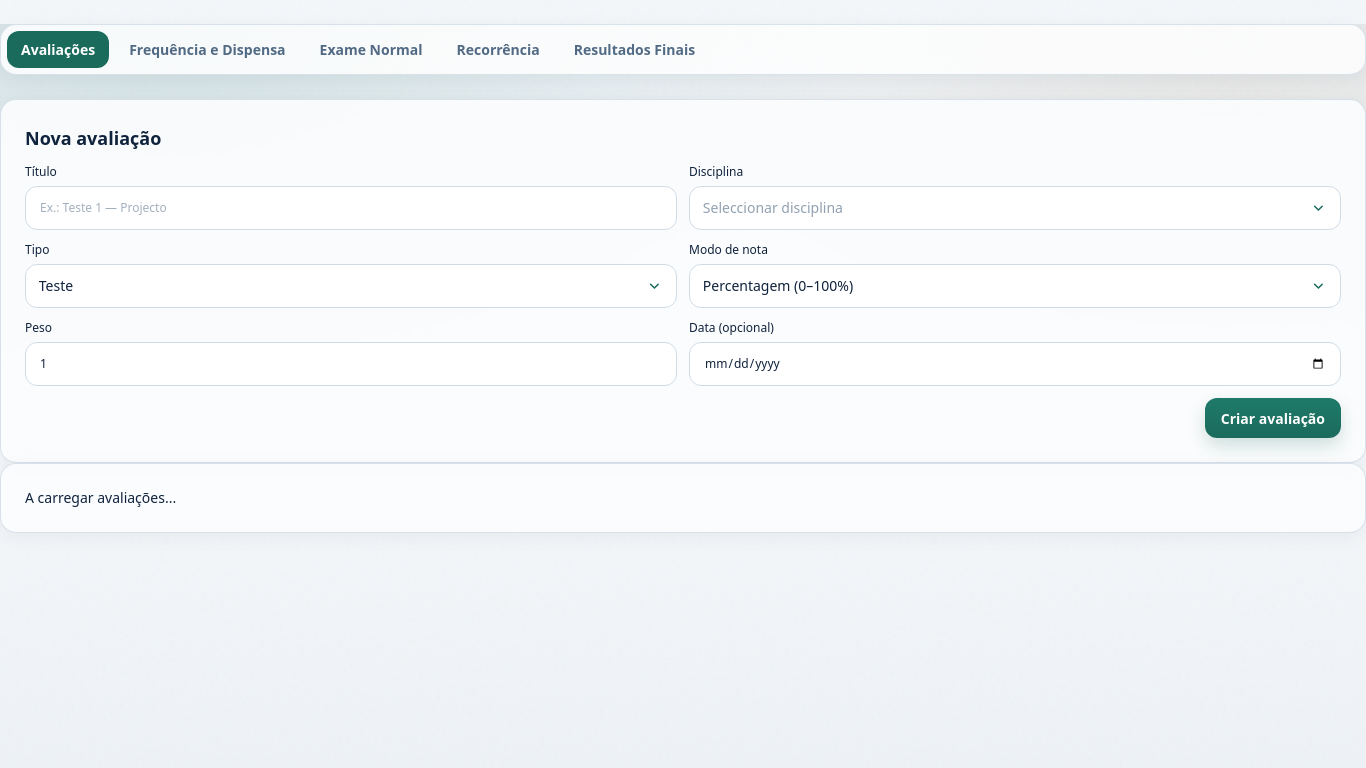
AssessmentsPage › separador Resultados Finais publica a pauta da disciplina
This screenshot has width=1366, height=768.
Click the tab "Resultados Finais" at [634, 50], box [560,31,709,68]
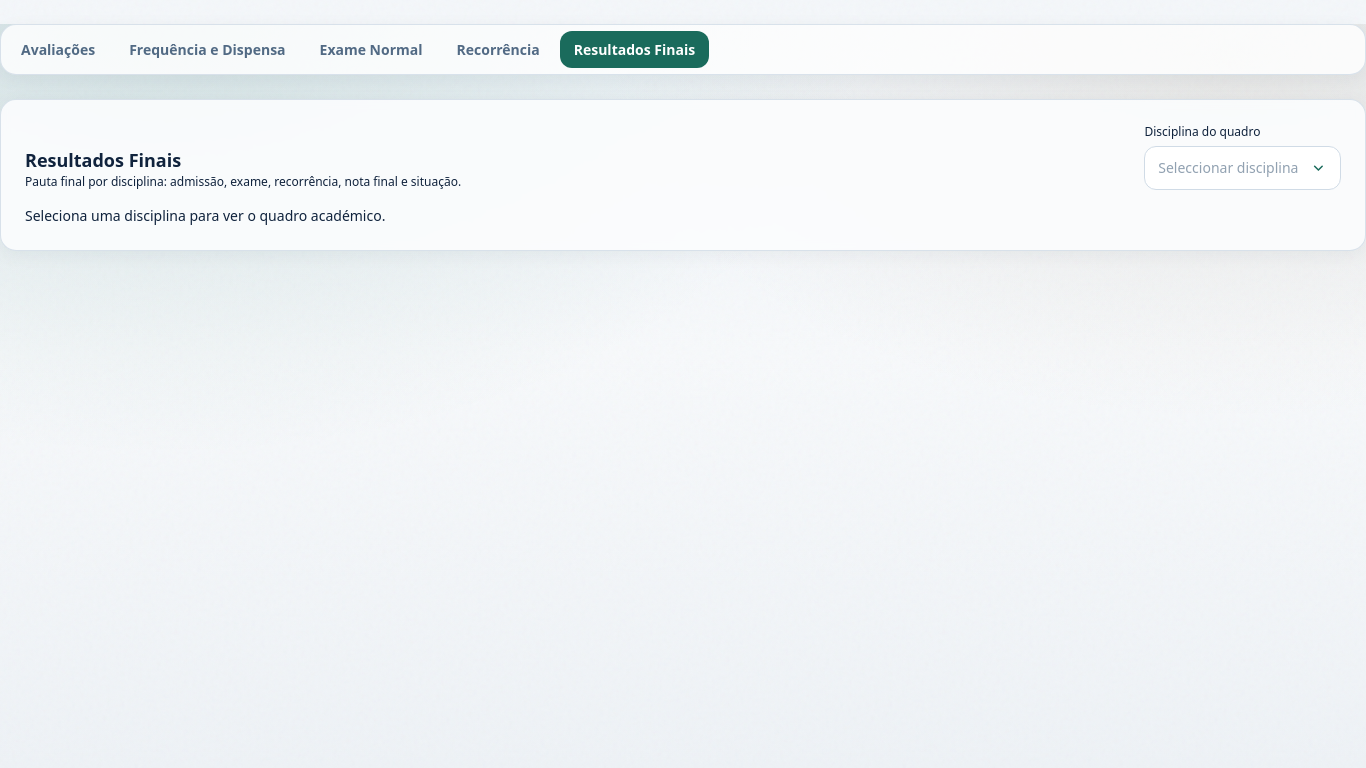
Check: the label labelled "Disciplina do quadro" is shown
Select "PTP3 — Projeto" in the dropdown labelled "Disciplina do quadro Seleccionar disciplina" at [1243, 157], box [1144,124,1341,190]
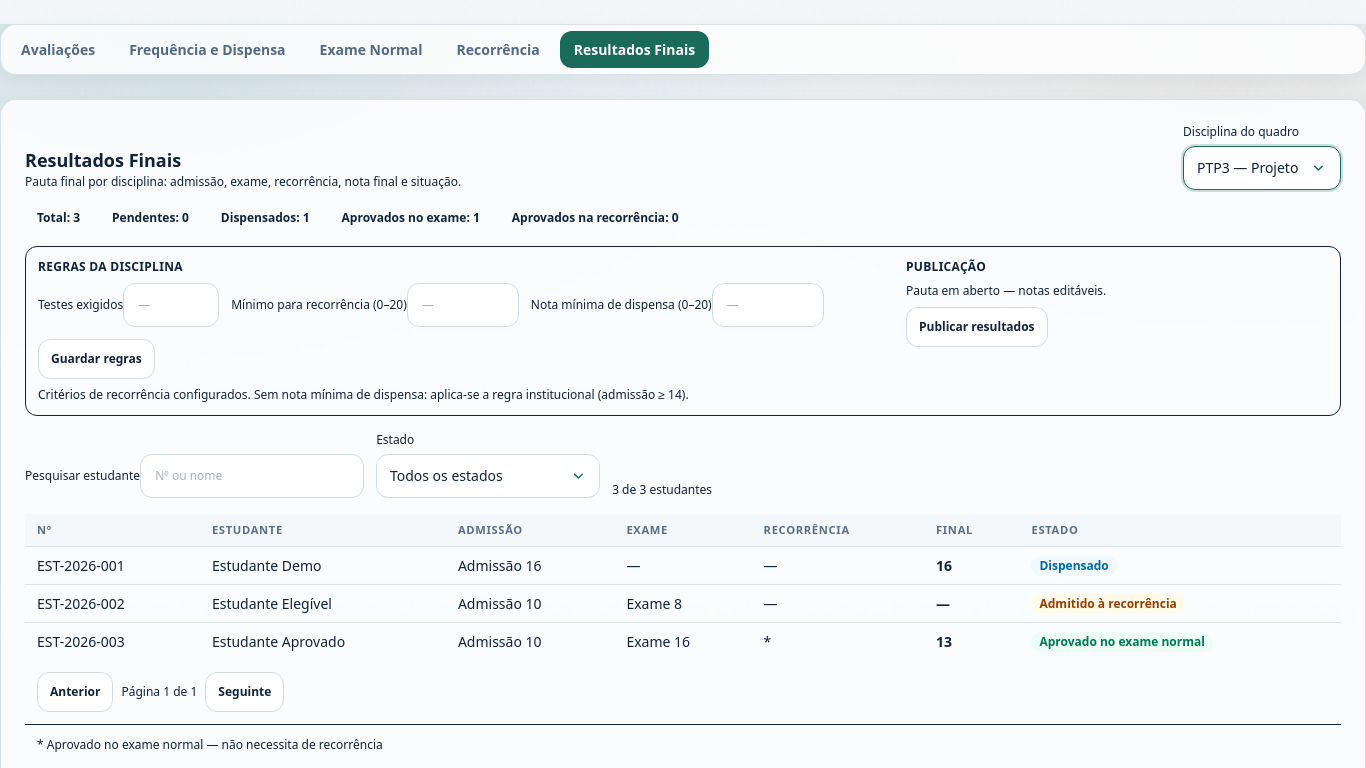
Click the button "Publicar resultados" at [977, 327], box [906,307,1048,347]
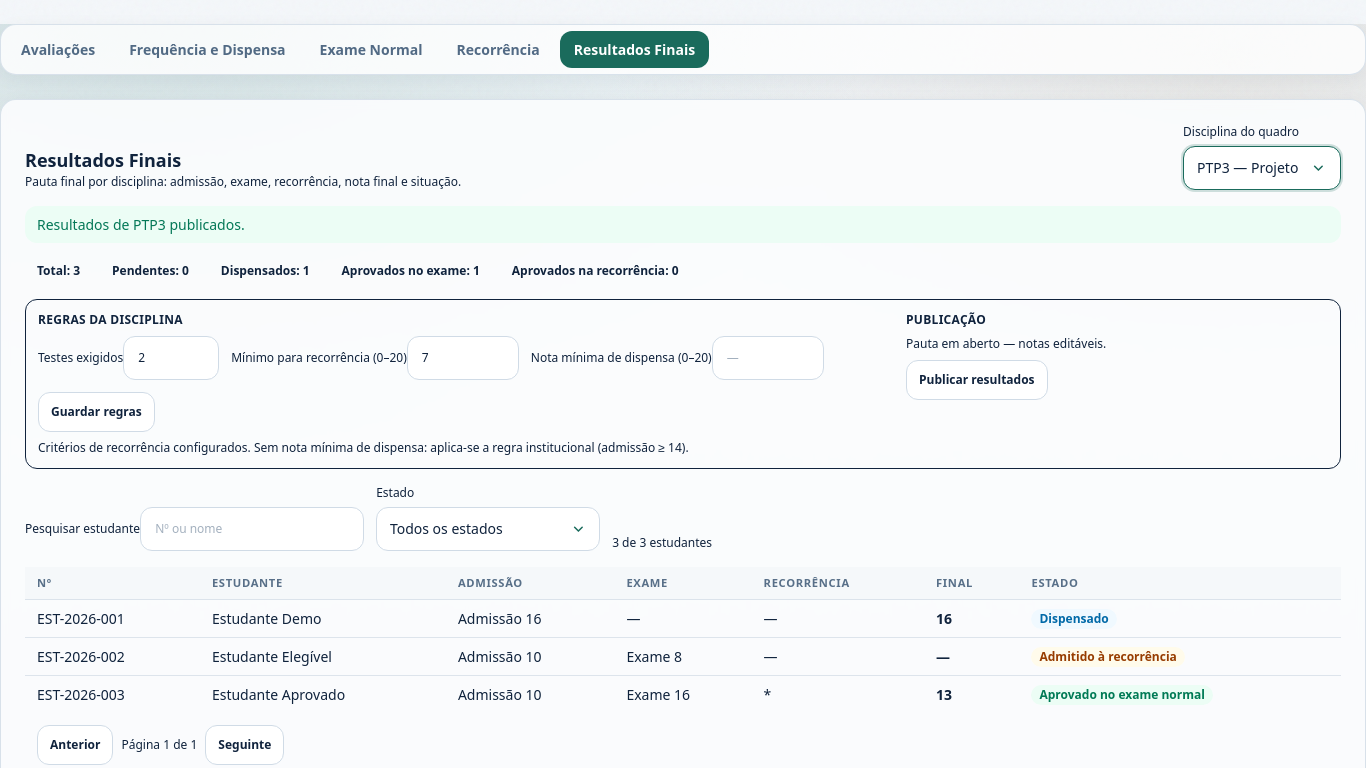
Check: the text "Resultados de PTP3 publicados." is shown, box [25,206,1341,243]
